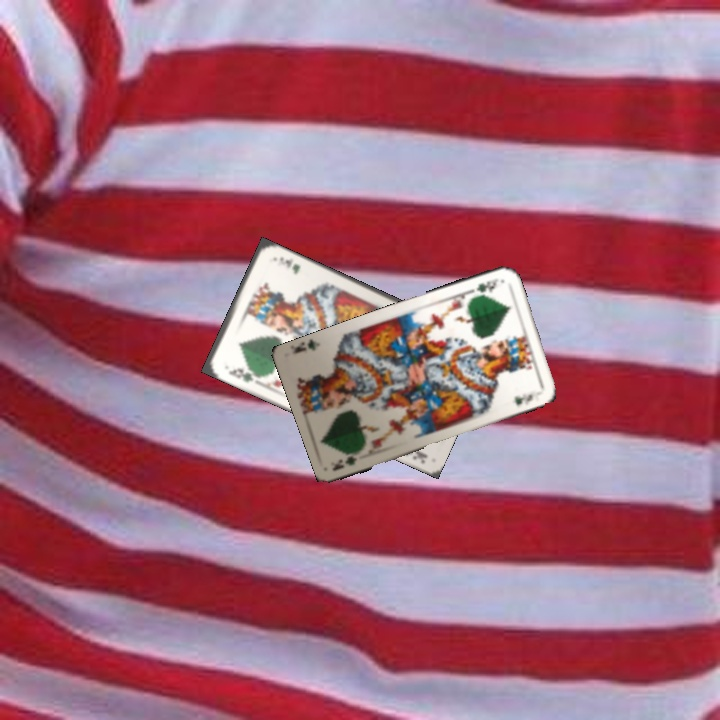GK: (464, 274, 501, 297), (224, 364, 259, 385), (328, 452, 360, 473)
